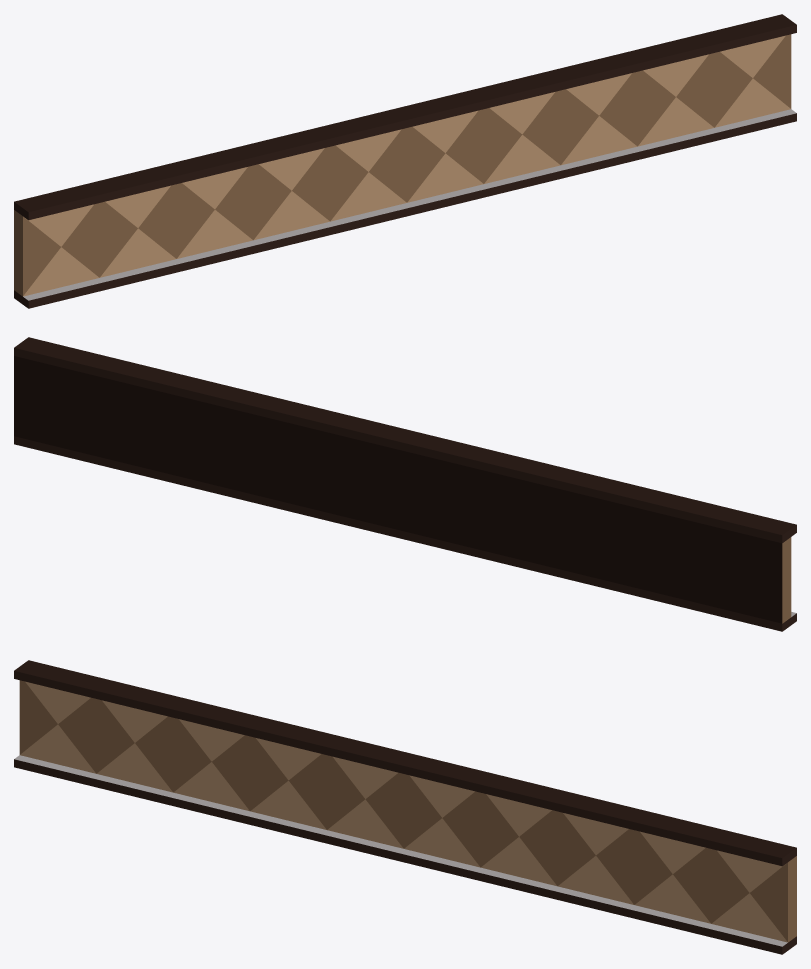
Rendered from SkirtingBoard_01.glb.
3 views of the same model, one above another, from view 1: azimuth 30°, elevation 25°; view 2: azimuth 150°, elevation 25°; view 3: azimuth 330°, elevation 25° (orthographic).
Parts seen in each view (by area): view 1: SkirtingBoard_01; view 2: SkirtingBoard_01; view 3: SkirtingBoard_01.
Part boxes in pixels (left/top/right/bottom): SkirtingBoard_01: left=14, top=14, right=796, bottom=308; SkirtingBoard_01: left=14, top=337, right=796, bottom=631; SkirtingBoard_01: left=14, top=660, right=796, bottom=954.
Size of what is drawn, in the model's own units: 1 by 0.12 by 0.0327.
1 material, 1 textured.
